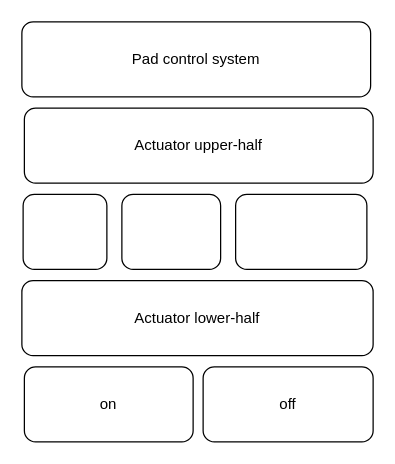
Some shapes in this 395 by 464 pixel diagram are drawn without their labels. Here are the shapes that lost their labels. From the top down, the centre of each, then its label:
At pixel 64 231: "actuator_on".
At pixel 171 231: "actuator_off".
At pixel 300 231: "actuator_getstate".
